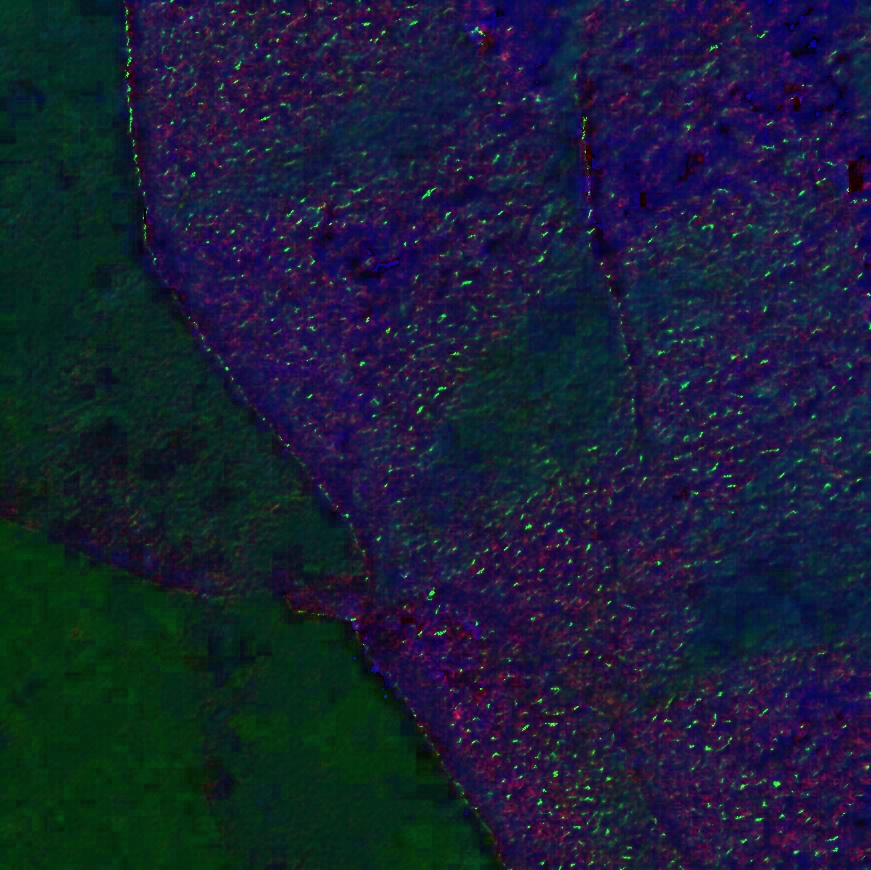rip_current: (307, 243, 724, 581)
